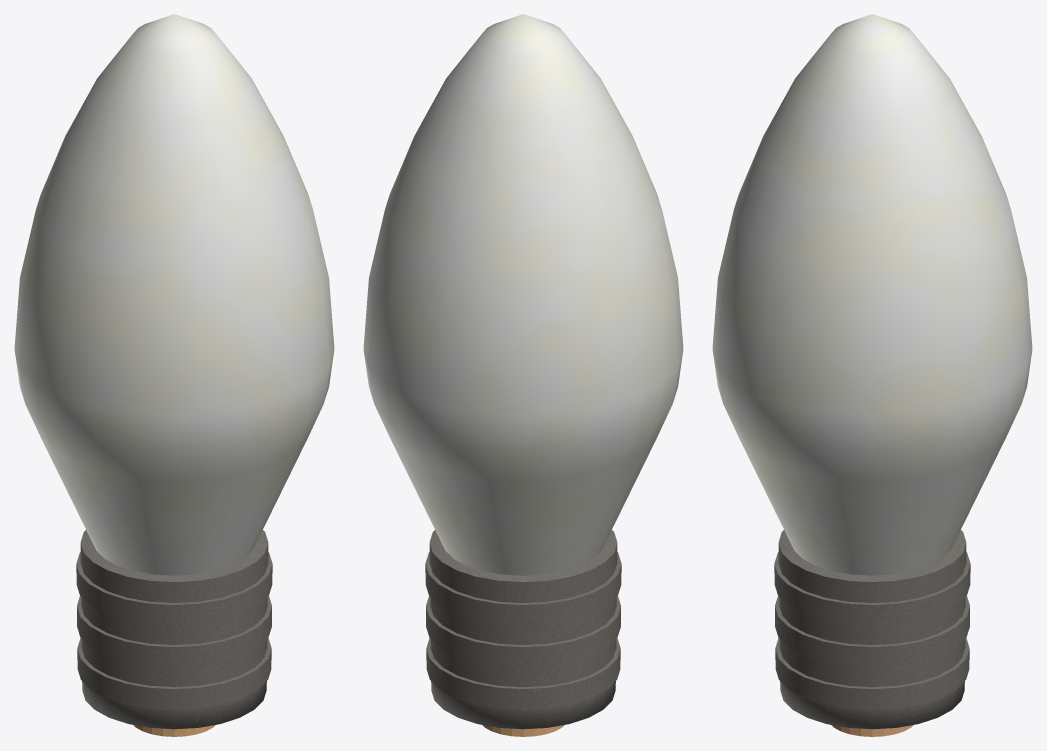
File: Bombilla.fbx
3 renders of one model, left to right at view 1: azimuth 30°, elevation 25°; view 2: azimuth 150°, elevation 25°; view 3: azimuth 270°, elevation 25°, orthographic.
Visible parts, largest first — view 1: Sphere001; view 2: Sphere001; view 3: Sphere001.
Part boxes in pixels (x1,y1,x2,y2): Sphere001: (14, 14, 334, 736); Sphere001: (363, 14, 683, 736); Sphere001: (712, 14, 1032, 736).
Size of the model in its own units: 40 by 97.85 by 40.
